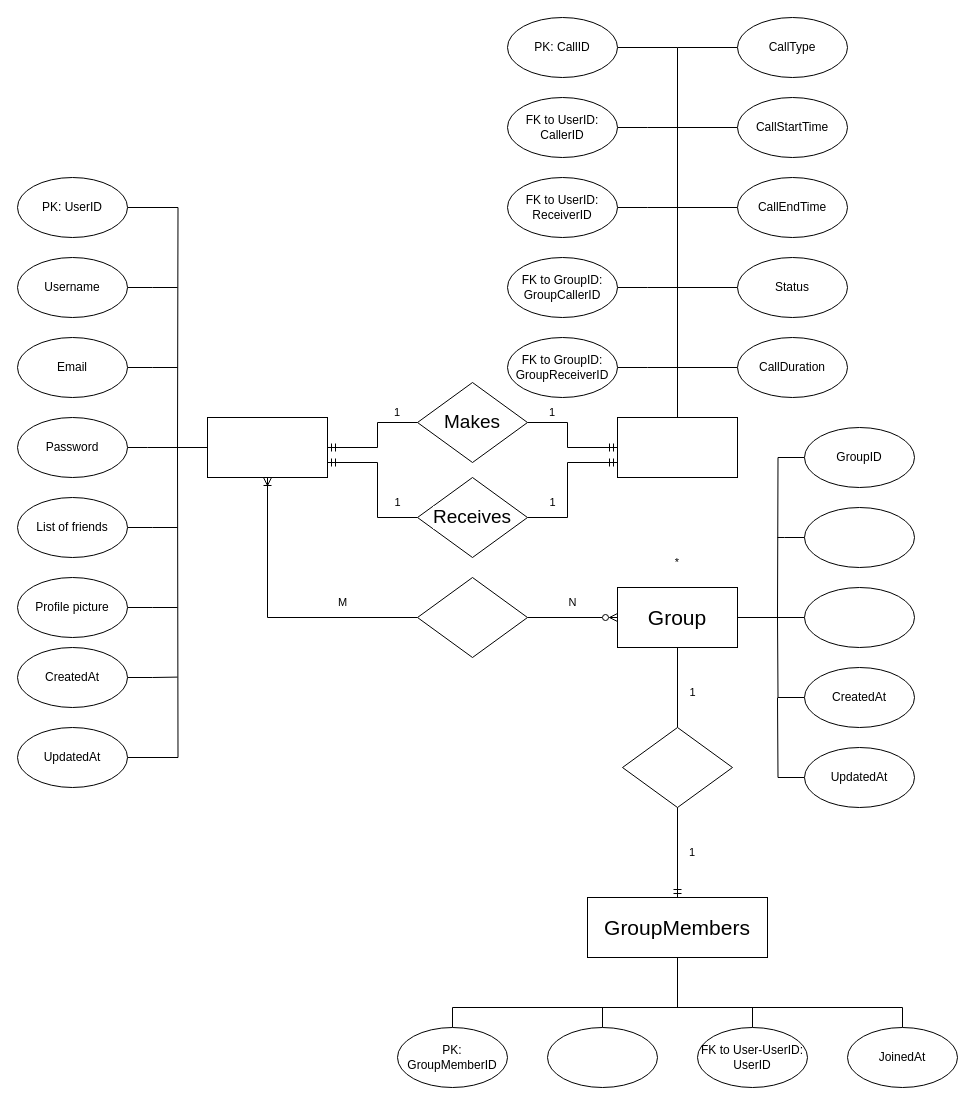
Image size: 975x1105. Some labels were removed from this diagram. The centre of each missing label's shape, as x and y in pixels:
"Belongs" goes at (x=472, y=617).
"Call" goes at (x=677, y=447).
"CreatedBy" goes at (x=859, y=617).
"FK to Group-GroupID: GroupID" goes at (x=602, y=1057).
"GroupName" goes at (x=859, y=537).
"Has" goes at (x=677, y=767).
"User" goes at (x=267, y=447).
